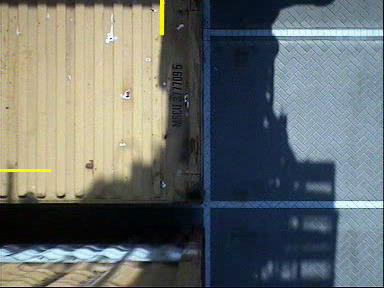groundmarker_2: (42, 54, 121, 108)
